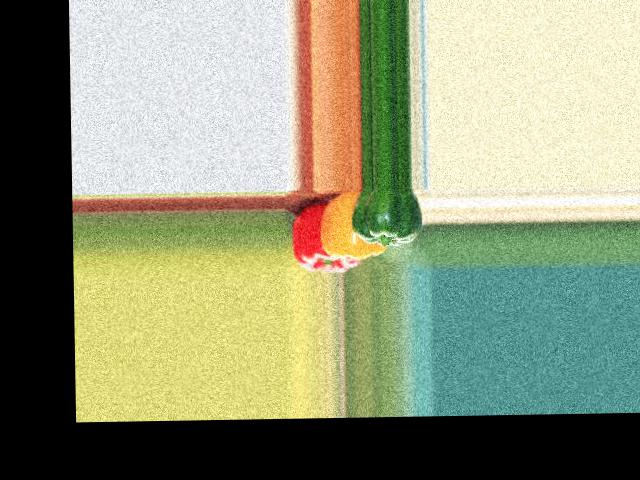bell_pepper: (292, 192, 361, 272)
